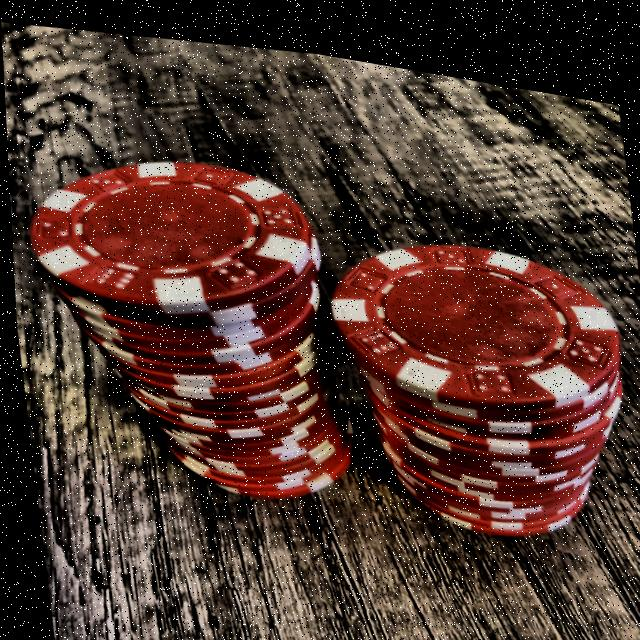Chip: (13, 122, 361, 519), (313, 193, 640, 551)
